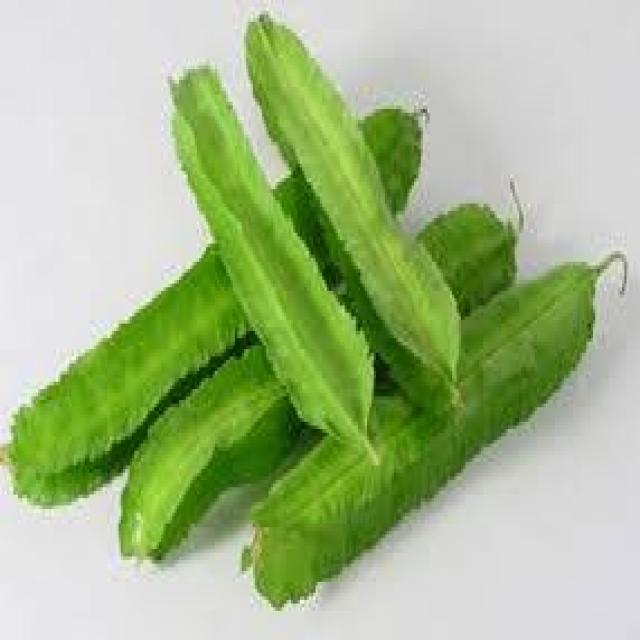organic waste: (0, 105, 418, 512), (116, 178, 522, 560), (239, 247, 626, 604), (242, 7, 458, 415), (168, 58, 376, 462)
